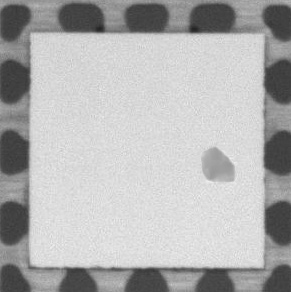DIE_INK: (199, 145, 238, 186)
